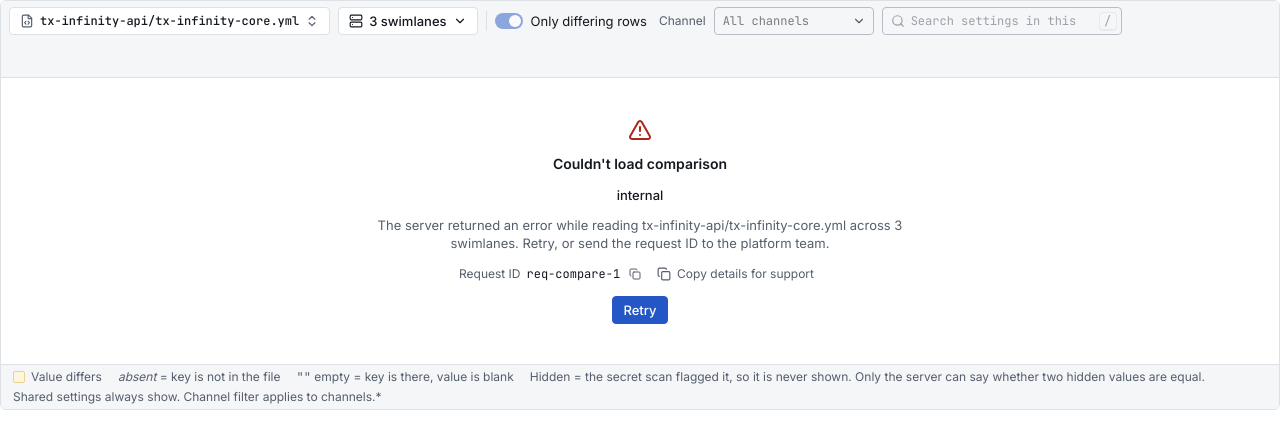
Test: the states of the grid › says what failed, in the problem's words, with the request id and a way to try again
expect the heading "Couldn't load comparison" is shown: met, box [553, 154, 727, 174]
expect the text "req-compare-1" is shown: met, box [526, 266, 620, 282]
Click the button "Retry" at (640, 310), box [612, 296, 668, 324]
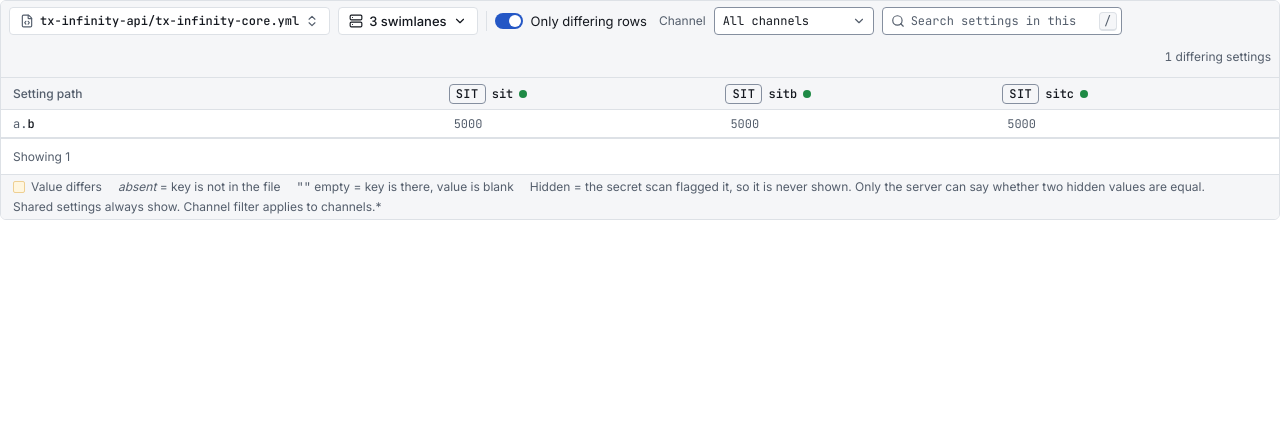
expect the table named "tx-infinity-core.yml across swimlanes" is shown: met, box [1, 78, 1279, 138]
